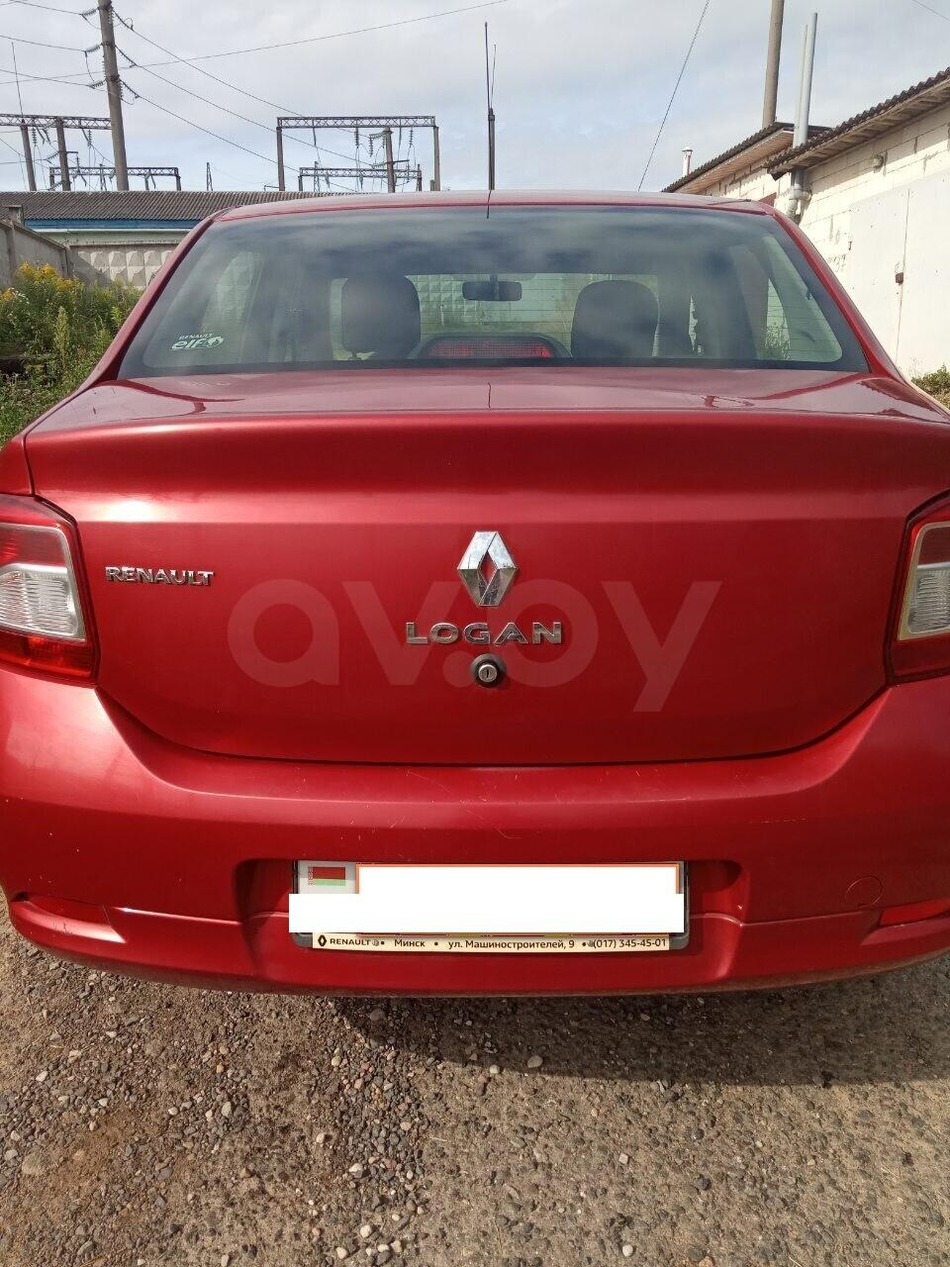Logan_2013-2018: (3, 184, 950, 1011)
